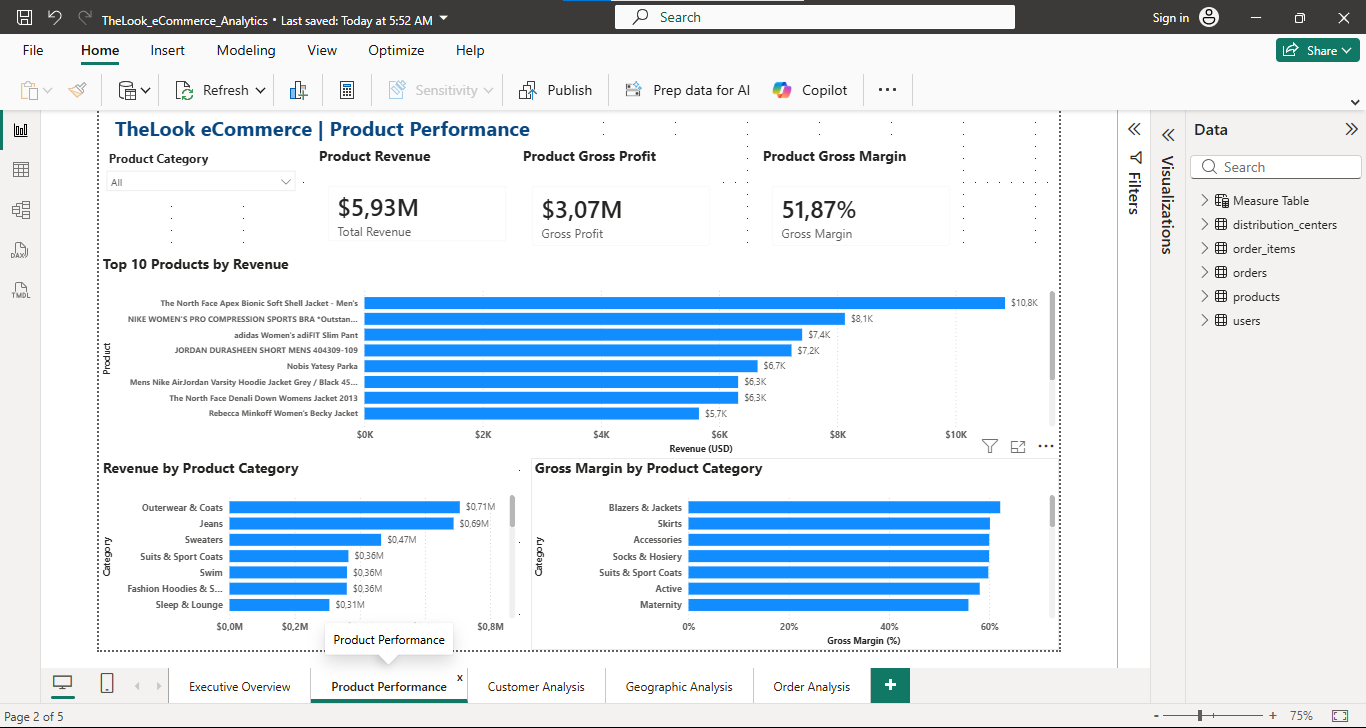

The dashboard page shown, as its layout file describes it:
{"tool":"powerbi","page":{"name":"Product Performance","canvas":[1280,720],"ordinal":1},"visuals":[{"type":"textbox","box":[16,0,592,64],"z":0},{"type":"cardVisual","title":"Product Revenue","fields":{"Data":["Measure Table.Total Revenue"]},"box":[288,48,272,144],"z":1000},{"type":"cardVisual","title":"Product Gross Profit","fields":{"Data":["Measure Table.Gross Profit"]},"box":[560,48,272,150],"z":2000},{"type":"cardVisual","title":"Product Gross Margin","fields":{"Data":["Measure Table.Gross Margin"]},"box":[880,48,272,150],"z":3000},{"type":"clusteredBarChart","title":"Top 10 Products by Revenue","fields":{"Category":["products.name"],"Y":["Measure Table.Total Revenue"]},"box":[0,176,1280,272],"z":4000},{"type":"clusteredBarChart","title":"Revenue by Product Category","fields":{"Category":["products.category"],"Y":["Measure Table.Total Revenue"]},"box":[0,448,560,272],"z":5000},{"type":"clusteredBarChart","title":"Gross Margin by Product Category","fields":{"Category":["products.category"],"Y":["Measure Table.Gross Margin"]},"box":[592,448,688,272],"z":6000},{"type":"slicer","fields":{"Values":["products.category"]},"box":[0,48,272,80],"z":7000}]}

Visuals, with their boxes on the page's 1280x720 design canvas (x1, y1, x2, y2). These are canvas units, not pixel positions in the 1366x728 screenshot, which may show the page scaled, cropped or inside an application window:
textbox: (left=16, top=0, right=608, bottom=64)
"Product Revenue" cardVisual: (left=288, top=48, right=560, bottom=192)
"Product Gross Profit" cardVisual: (left=560, top=48, right=832, bottom=198)
"Product Gross Margin" cardVisual: (left=880, top=48, right=1152, bottom=198)
"Top 10 Products by Revenue" clusteredBarChart: (left=0, top=176, right=1280, bottom=448)
"Revenue by Product Category" clusteredBarChart: (left=0, top=448, right=560, bottom=720)
"Gross Margin by Product Category" clusteredBarChart: (left=592, top=448, right=1280, bottom=720)
slicer - products.category: (left=0, top=48, right=272, bottom=128)
